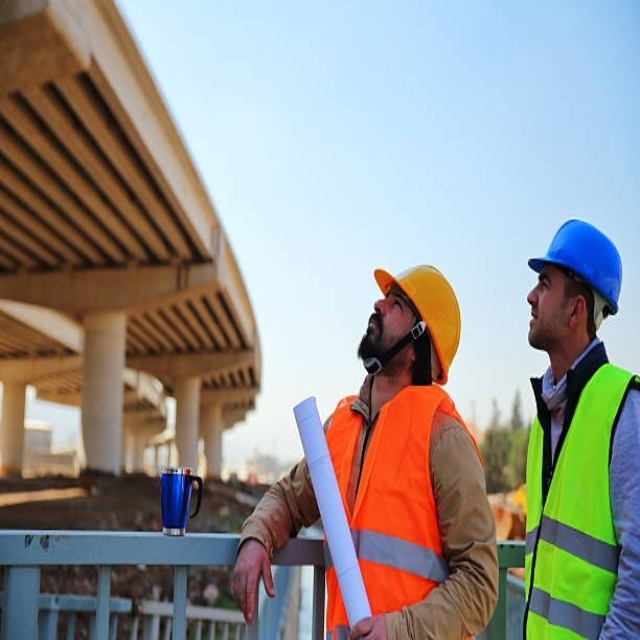Sin_gafas: (380, 284, 407, 320), (535, 273, 563, 303)
Sin_guantes: (232, 538, 275, 626)
Sin_mascara: (359, 311, 388, 342), (527, 306, 546, 344)
